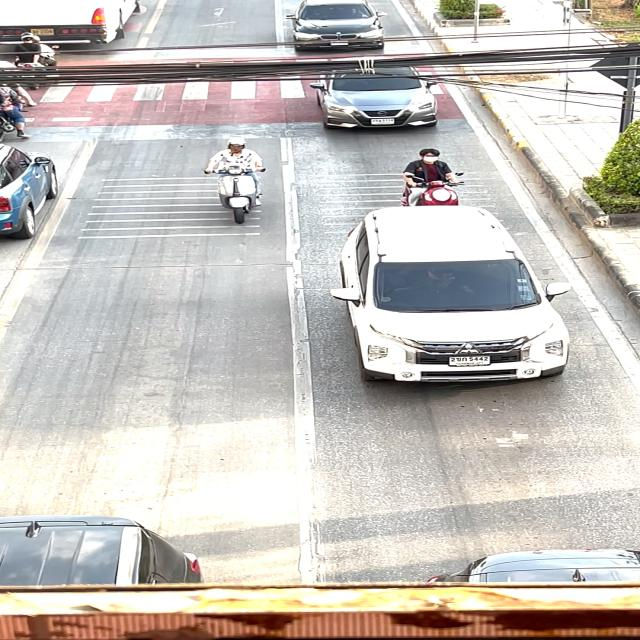car: (324, 200, 575, 387), (0, 499, 212, 594), (307, 57, 448, 137), (421, 538, 640, 588), (270, 0, 404, 52)
